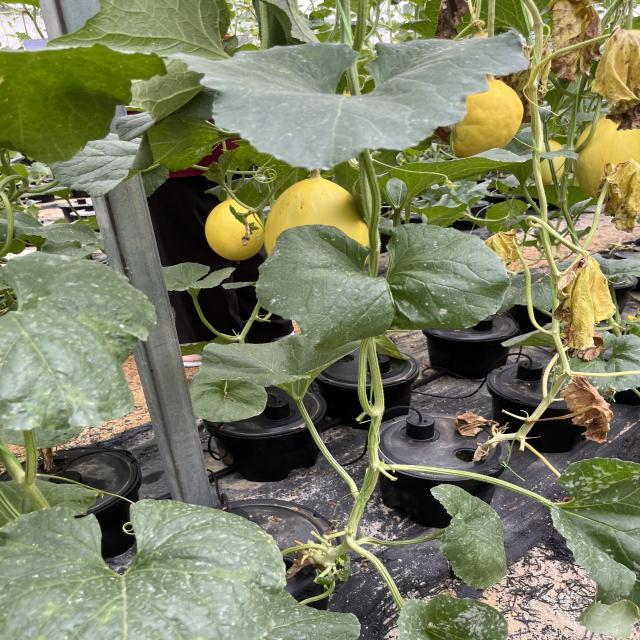bacterial wilt: (550, 250, 618, 346), (546, 0, 607, 79), (605, 25, 640, 132), (598, 159, 640, 229), (562, 382, 616, 436), (433, 0, 470, 40), (574, 332, 608, 362)
downy mildew: (4, 494, 280, 640), (199, 41, 515, 159), (0, 253, 136, 434), (0, 43, 168, 168), (380, 228, 510, 334), (272, 220, 378, 348), (550, 458, 640, 596), (428, 483, 508, 589), (0, 210, 116, 252), (182, 374, 265, 424)
healthy: (60, 0, 257, 58), (209, 334, 350, 394), (389, 152, 518, 198)
